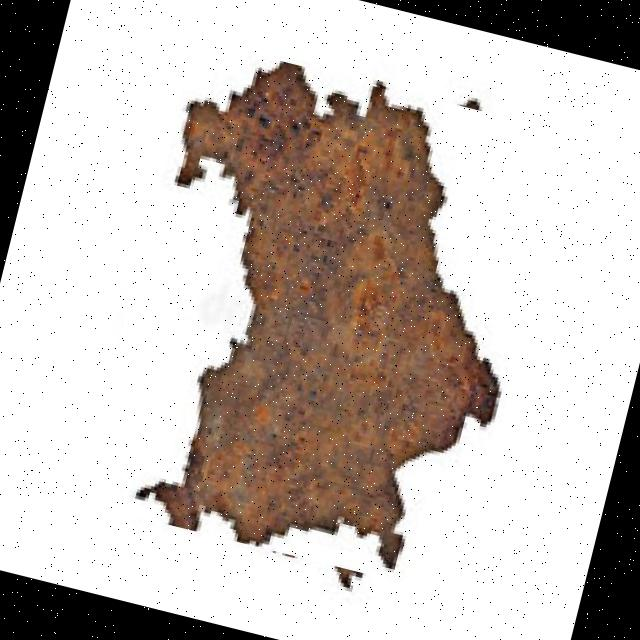Corrosion: (82, 34, 568, 608)
